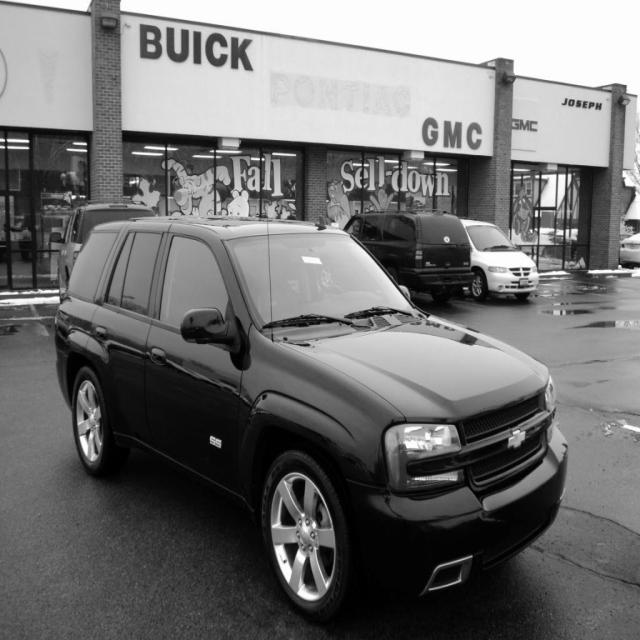car: (44, 230, 559, 640), (368, 210, 473, 306), (459, 218, 539, 302), (618, 232, 640, 268)
